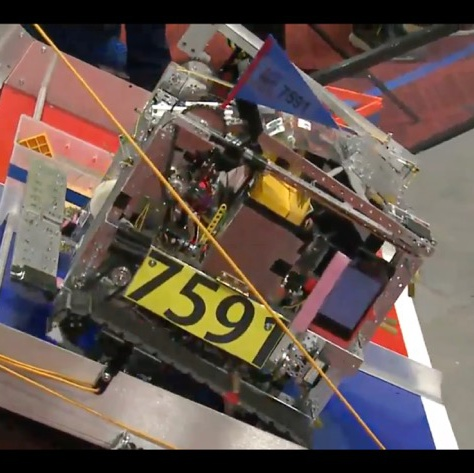robot: (45, 22, 441, 450)
